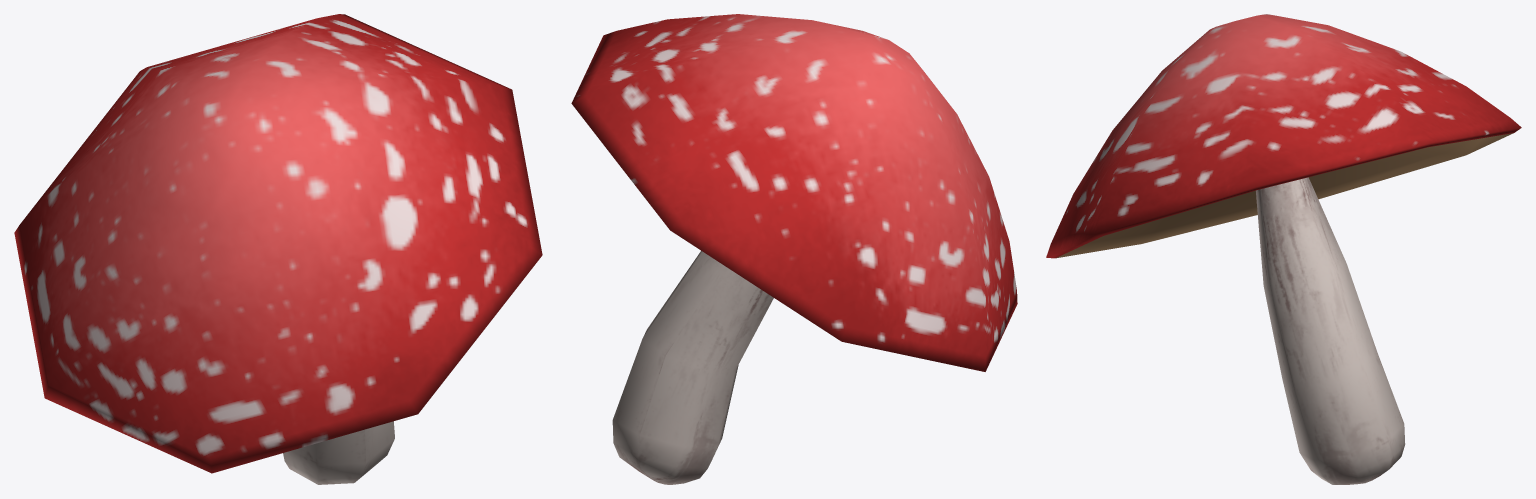
Rendered from Mushroom_small.fbx.
3 renders of one model, left to right at view 1: azimuth 30°, elevation 25°; view 2: azimuth 150°, elevation 25°; view 3: azimuth 270°, elevation 25°, orthographic. The views are drawn at different scales.
Parts seen in each view (by area): view 1: Mushroom_small; view 2: Mushroom_small; view 3: Mushroom_small.
Boxes of the visible parts, x1,y1,x2,y2 form: Mushroom_small: (14, 14, 542, 484); Mushroom_small: (571, 14, 1017, 484); Mushroom_small: (1046, 14, 1521, 484).
Size of the model in its own units: 9.09 by 9.23 by 9.8.
